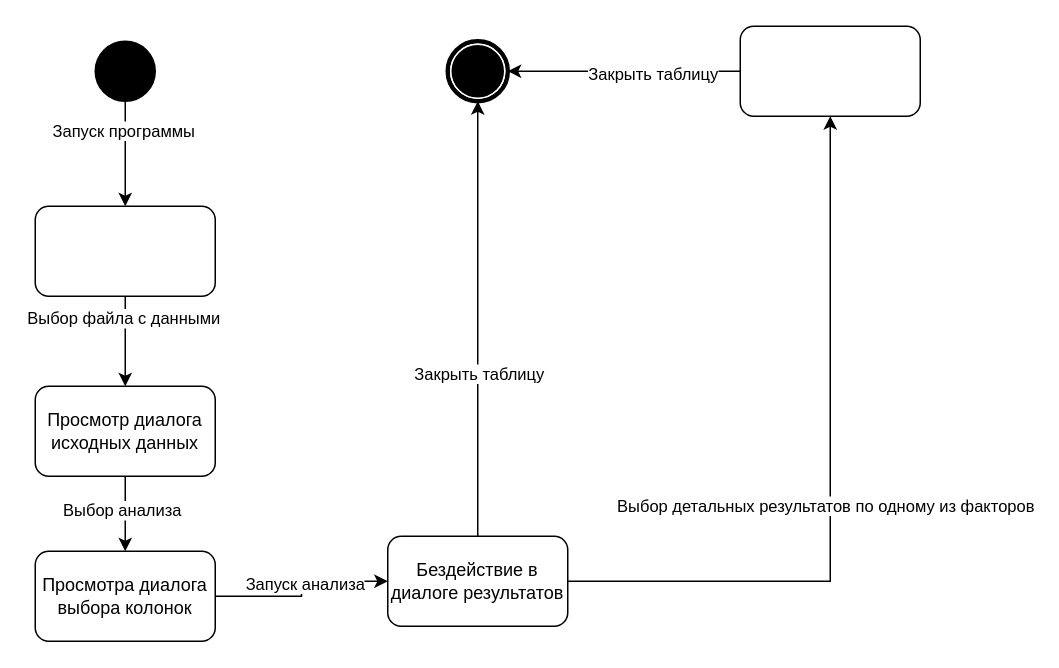
The diagram is 1059 pixels wide and 668 high, and some of its shapes have lost their labels. Each missing label, with the box of its shape:
Бездействие в главном меню: (34, 205, 215, 296)
Просмотр графика: (739, 25, 920, 116)
